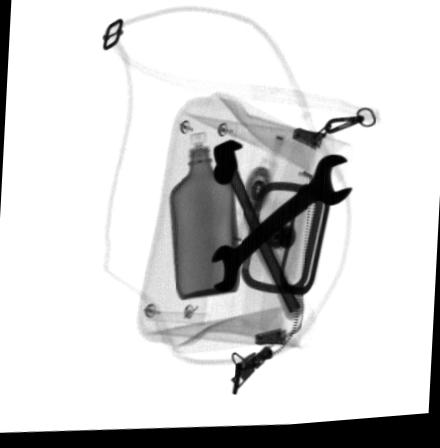Hammer: (212, 142, 307, 328)
Wrench: (211, 162, 352, 298)
